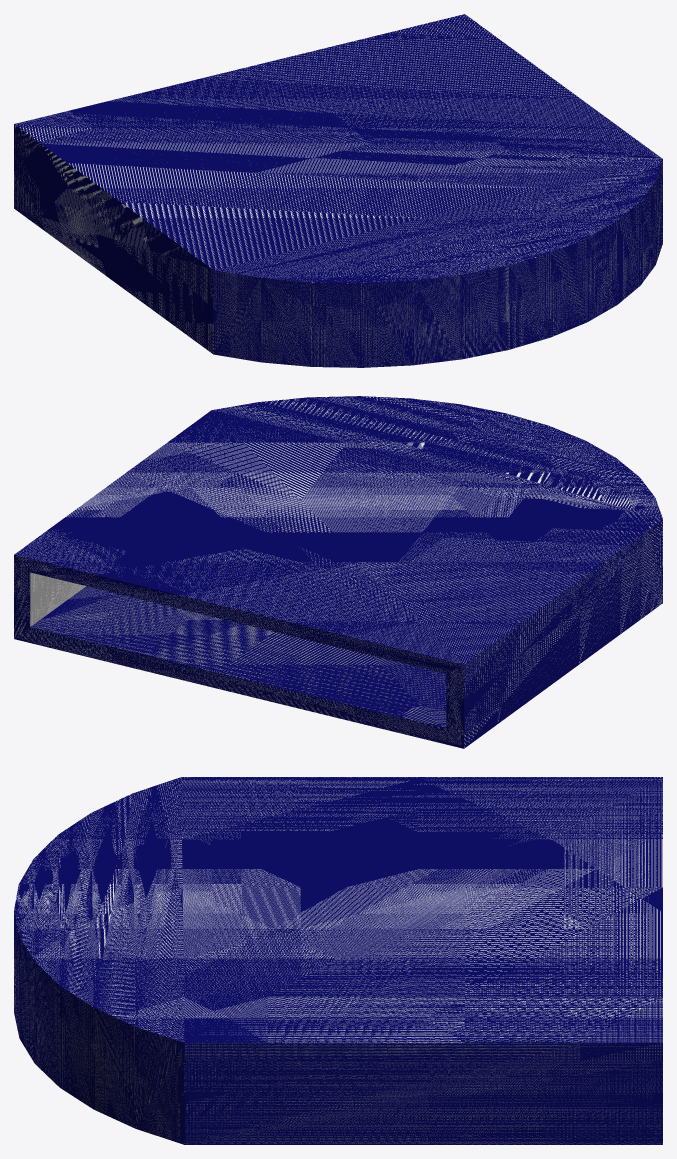
The model's file is original-20.obj.
3 views of the same model, one above another, from view 1: azimuth 30°, elevation 25°; view 2: azimuth 150°, elevation 25°; view 3: azimuth 270°, elevation 25° (orthographic). The views are drawn at different scales.
Visible parts, largest first — view 1: mesh44/mesh44-geometry#mesh44-geometry; view 2: mesh44/mesh44-geometry#mesh44-geometry; view 3: mesh44/mesh44-geometry#mesh44-geometry.
Part boxes in pixels (<box>): mesh44/mesh44-geometry#mesh44-geometry: <box>14,14,662,367</box>; mesh44/mesh44-geometry#mesh44-geometry: <box>14,396,662,748</box>; mesh44/mesh44-geometry#mesh44-geometry: <box>14,777,662,1144</box>.
Size of the model in its own units: 0.4316 by 0.0772 by 0.4452.
